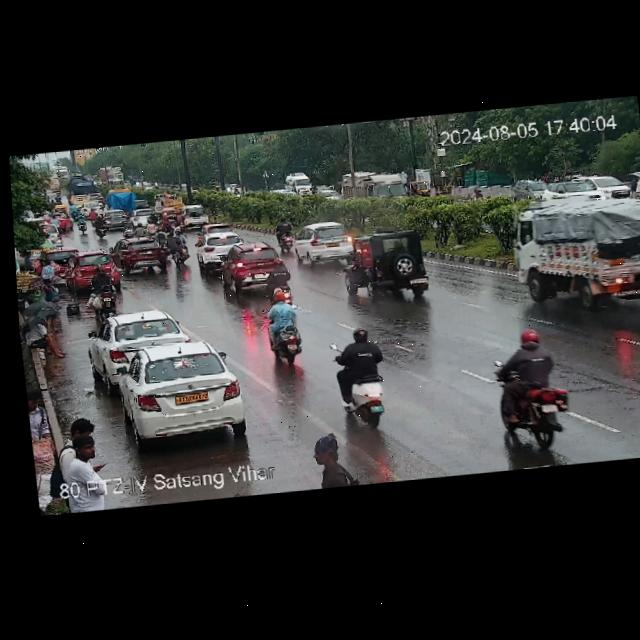bus: (54, 169, 69, 181)
car: (114, 337, 249, 442), (337, 227, 435, 306), (89, 306, 190, 374), (517, 169, 635, 207), (213, 239, 289, 295), (298, 222, 359, 267), (192, 223, 244, 273), (113, 235, 173, 276), (285, 171, 313, 196), (182, 203, 210, 227), (103, 208, 132, 227), (408, 178, 431, 199), (80, 201, 103, 219)
motorcycle: (487, 325, 564, 437), (326, 326, 397, 432), (256, 287, 316, 367), (86, 266, 118, 316), (108, 184, 143, 213), (166, 233, 190, 272), (274, 219, 299, 253), (53, 209, 75, 235), (73, 204, 92, 234), (142, 218, 161, 236), (137, 218, 155, 237), (119, 219, 136, 238), (95, 215, 106, 239), (175, 209, 186, 230), (162, 214, 174, 233), (470, 187, 485, 201), (55, 193, 72, 204), (89, 207, 96, 227)
person: (54, 414, 100, 484), (303, 434, 357, 485), (27, 318, 62, 361), (42, 278, 64, 333), (35, 257, 55, 274)
truck: (511, 190, 640, 309), (333, 168, 409, 208), (70, 174, 106, 210), (105, 187, 134, 207), (99, 165, 126, 186), (157, 196, 177, 213)
